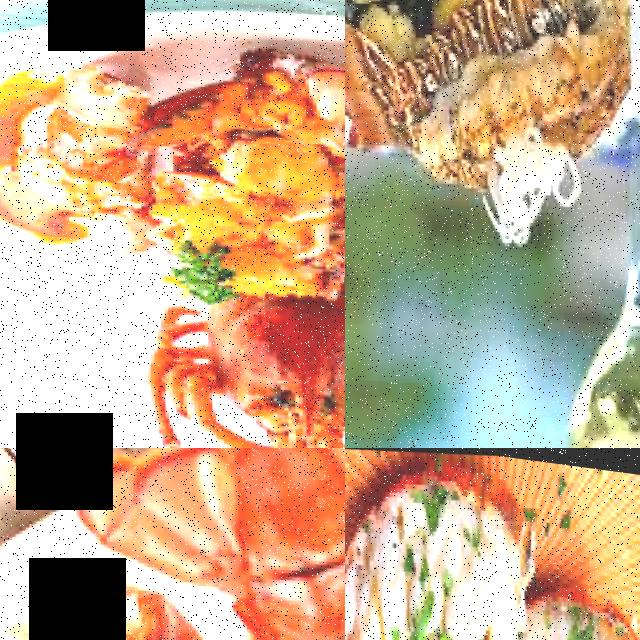lobster tails: (127, 8, 345, 245), (181, 448, 345, 640), (345, 477, 473, 640), (0, 562, 248, 640)
